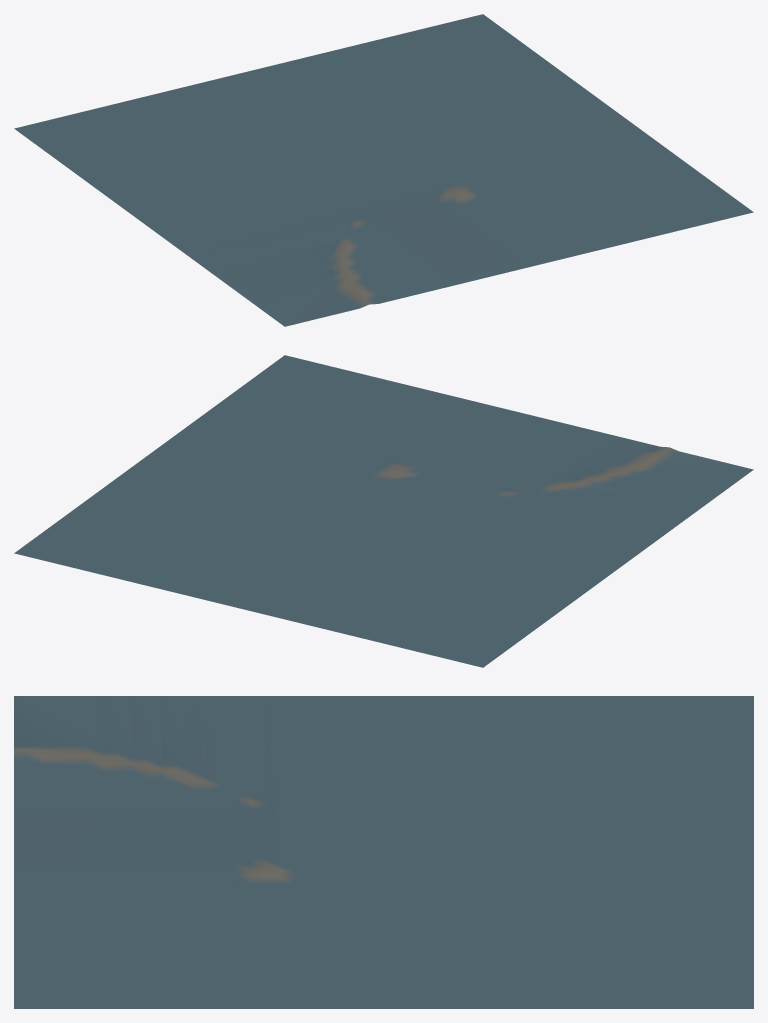
3 views of the same model, one above another, from view 1: azimuth 30°, elevation 25°; view 2: azimuth 150°, elevation 25°; view 3: azimuth 270°, elevation 25° (orthographic). The views are drawn at different scales.
Parts seen in each view (by area): view 1: ground; view 2: ground; view 3: ground.
Boxes of the visible parts, left/top/right/bottom form: ground: left=14, top=14, right=753, bottom=326; ground: left=14, top=355, right=753, bottom=667; ground: left=14, top=696, right=753, bottom=1008.
Bounding box in the file's own units: 500 × 1.71 × 500.
